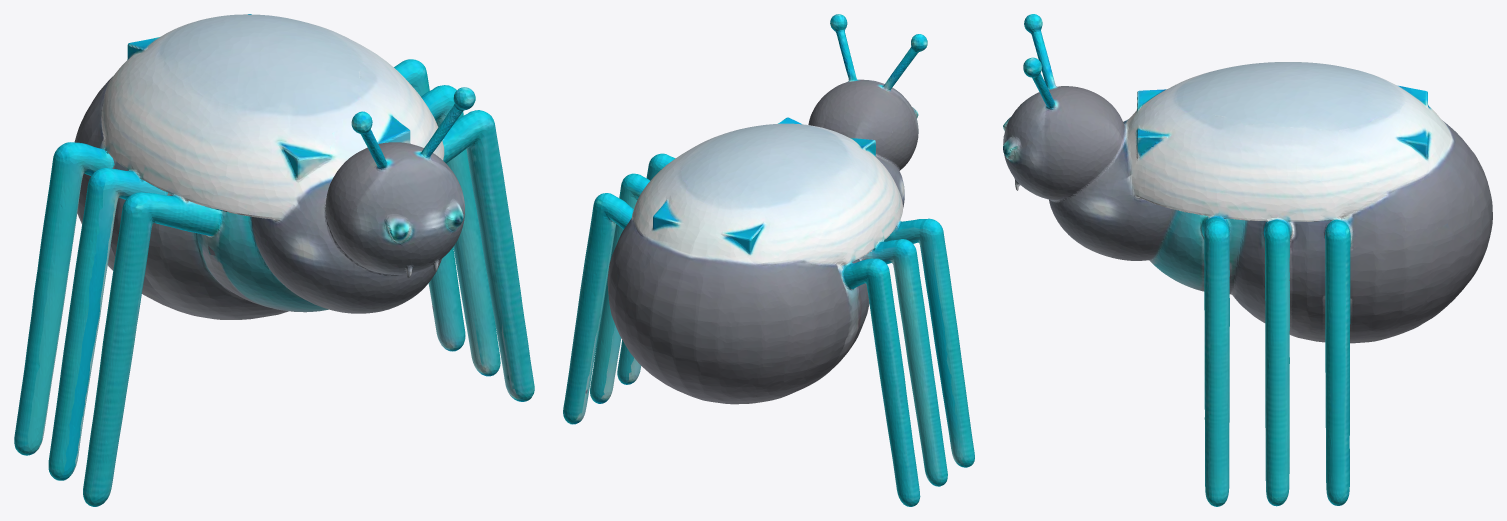
Rendered from creature-109.glb.
The picture shows the model from 3 angles, left to right: view 1: azimuth 30°, elevation 25°; view 2: azimuth 150°, elevation 25°; view 3: azimuth 270°, elevation 25°; orthographic projection. The views are drawn at different scales.
Visible parts, largest first — view 1: tmpwzp2aeaq.ply; view 2: tmpwzp2aeaq.ply; view 3: tmpwzp2aeaq.ply.
Part boxes in pixels (x1,y1,x2,y2): tmpwzp2aeaq.ply: (14,14,534,506); tmpwzp2aeaq.ply: (563,14,974,506); tmpwzp2aeaq.ply: (1003,14,1492,506).
Size of the model in its own units: 1.85 by 1.7 by 1.99.
1 material, 1 textured.
